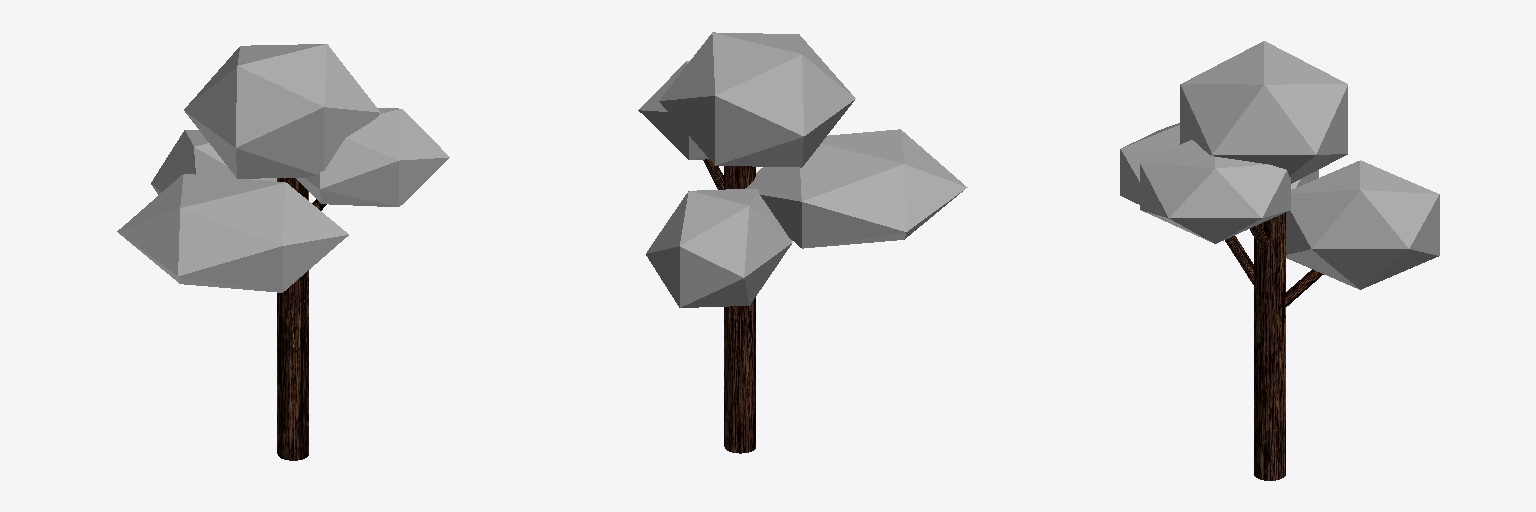
3 views of the same model, side by side, from view 1: azimuth 30°, elevation 25°; view 2: azimuth 150°, elevation 25°; view 3: azimuth 270°, elevation 25° (orthographic).
Parts seen in each view (by area): view 1: Icosahedron4, Icosahedron1, Icosahedron2, Cylinder56, Icosahedron3; view 2: Icosahedron1, Icosahedron4, Icosahedron3, Cylinder56, Icosahedron2; view 3: Icosahedron1, Icosahedron3, Icosahedron2, Cylinder56, Icosahedron4.
Part boxes in pixels (x1,y1,x2,y2): Icosahedron4: (117,174,348,292); Icosahedron1: (184,44,380,178); Icosahedron2: (296,108,449,206); Cylinder56: (277,178,308,460); Icosahedron3: (151,130,276,194); Icosahedron1: (659,32,855,167); Icosahedron4: (745,129,967,248); Icosahedron3: (646,189,792,307); Cylinder56: (724,166,755,453); Icosahedron2: (638,61,708,159); Icosahedron1: (1180,41,1347,183); Icosahedron3: (1286,160,1439,289); Icosahedron2: (1140,140,1290,243); Cylinder56: (1254,212,1285,480); Icosahedron4: (1120,123,1318,204).
Bounding box in the file's own units: 10.02 × 13.96 × 9.97.
Materials: 2 (1 with a texture image).